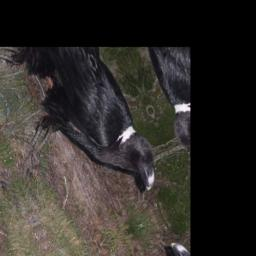Crow: (0, 53, 168, 238)
